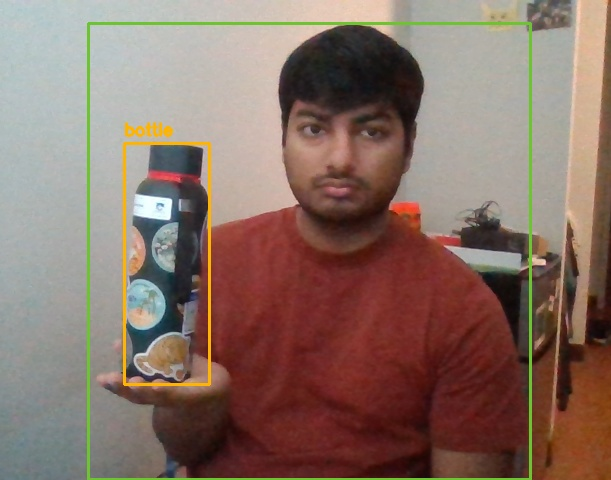bottle: (124, 143, 209, 384)
